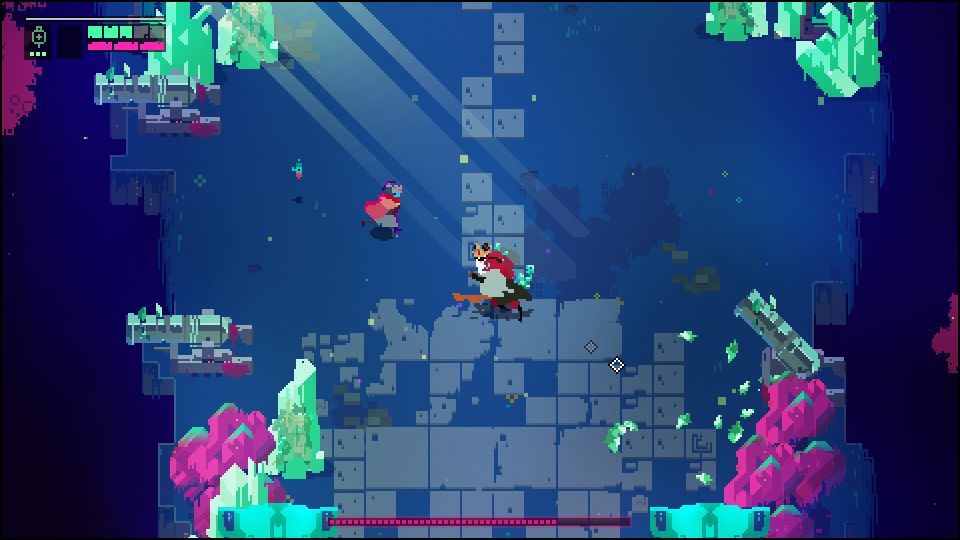hanged_man: (453, 244, 532, 317)
player: (363, 183, 404, 238)
